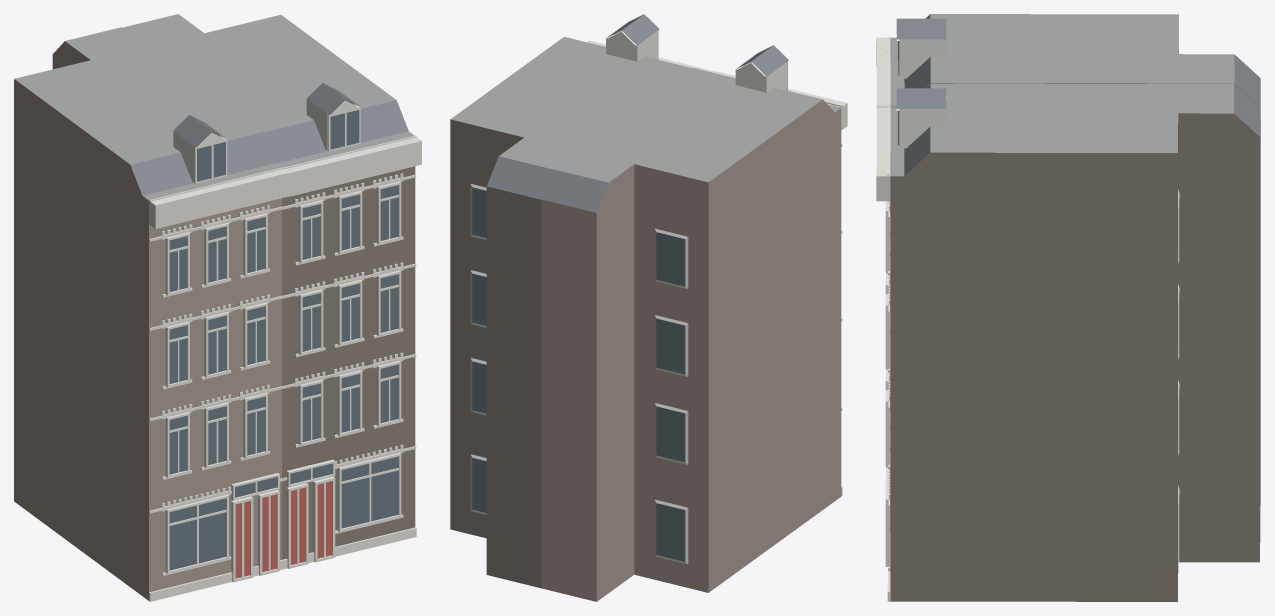
Rendered from chunk-face-hendrik-134-154-r1.glb.
3 renders of one model, left to right at view 1: azimuth 30°, elevation 25°; view 2: azimuth 150°, elevation 25°; view 3: azimuth 270°, elevation 25°, orthographic. The views are drawn at different scales.
Parts seen in each view (by area): view 1: face-hendrik-134-154-r1; view 2: face-hendrik-134-154-r1; view 3: face-hendrik-134-154-r1.
Part boxes in pixels (x1,y1,x2,y2): face-hendrik-134-154-r1: (14, 14, 421, 601); face-hendrik-134-154-r1: (450, 14, 847, 601); face-hendrik-134-154-r1: (876, 14, 1260, 601).
Size of the model in its own units: 9.44 by 15.21 by 11.04.
